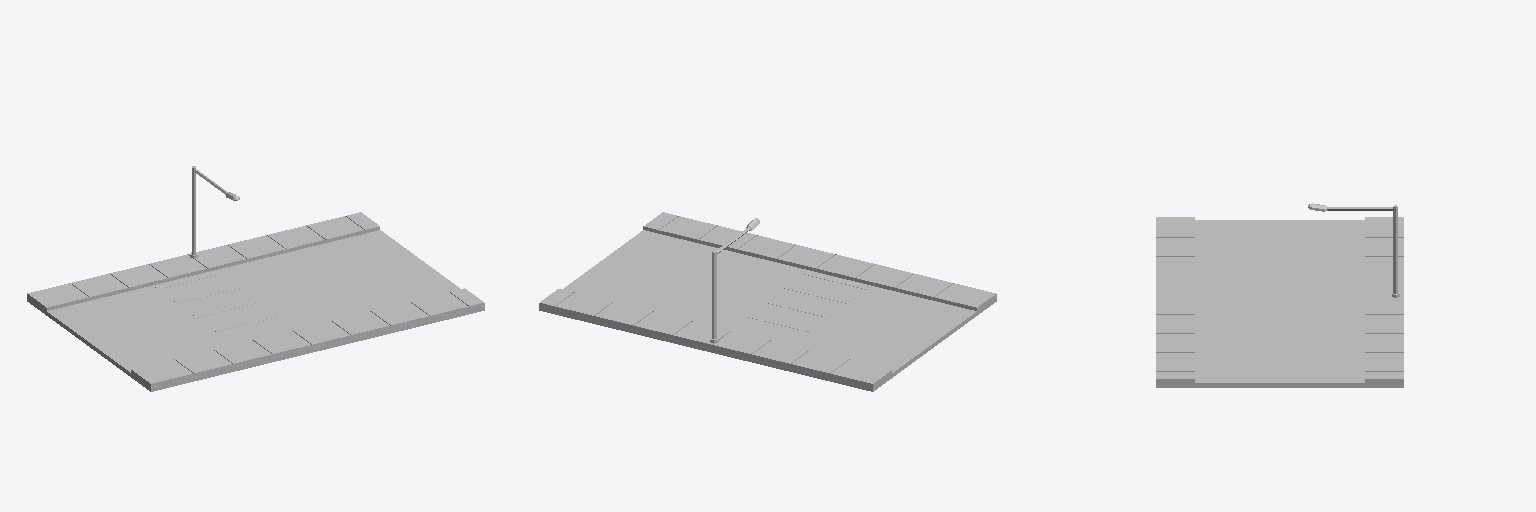
The picture shows the model from 3 angles: view 1: azimuth 30°, elevation 25°; view 2: azimuth 150°, elevation 25°; view 3: azimuth 270°, elevation 25°; orthographic projection.
Parts seen in each view (by area): view 1: Объект_Куб, Объект_Куб.1-Ноль_объект, Объект_Куб.1-Ноль_объект_1; view 2: Объект_Куб, Объект_Куб.1-Ноль_объект_1, Объект_Куб.1-Ноль_объект; view 3: Объект_Куб, Объект_Куб.1-Ноль_объект, Объект_Куб.1-Ноль_объект_1.
Part boxes in pixels (left/top/right/bottom): Объект_Куб: left=27, top=230, right=484, bottom=391; Объект_Куб.1-Ноль_объект: left=131, top=288, right=484, bottom=386; Объект_Куб.1-Ноль_объект_1: left=27, top=212, right=379, bottom=311; Объект_Куб: left=539, top=230, right=996, bottom=391; Объект_Куб.1-Ноль_объект_1: left=539, top=289, right=891, bottom=387; Объект_Куб.1-Ноль_объект: left=643, top=212, right=996, bottom=311; Объект_Куб: left=1156, top=220, right=1403, bottom=387; Объект_Куб.1-Ноль_объект: left=1156, top=217, right=1194, bottom=383; Объект_Куб.1-Ноль_объект_1: left=1365, top=217, right=1403, bottom=383.
Bounding box in the file's own units: 659 × 189 × 423.